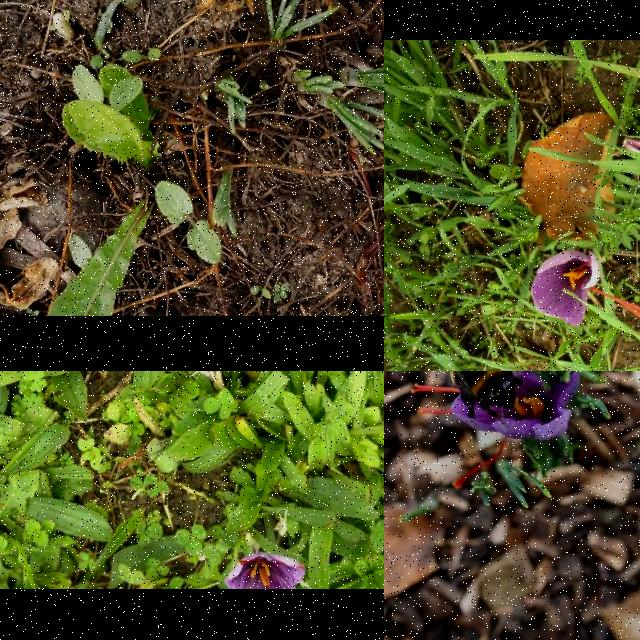flower: (410, 371, 581, 487), (531, 250, 640, 327), (224, 554, 306, 590)
